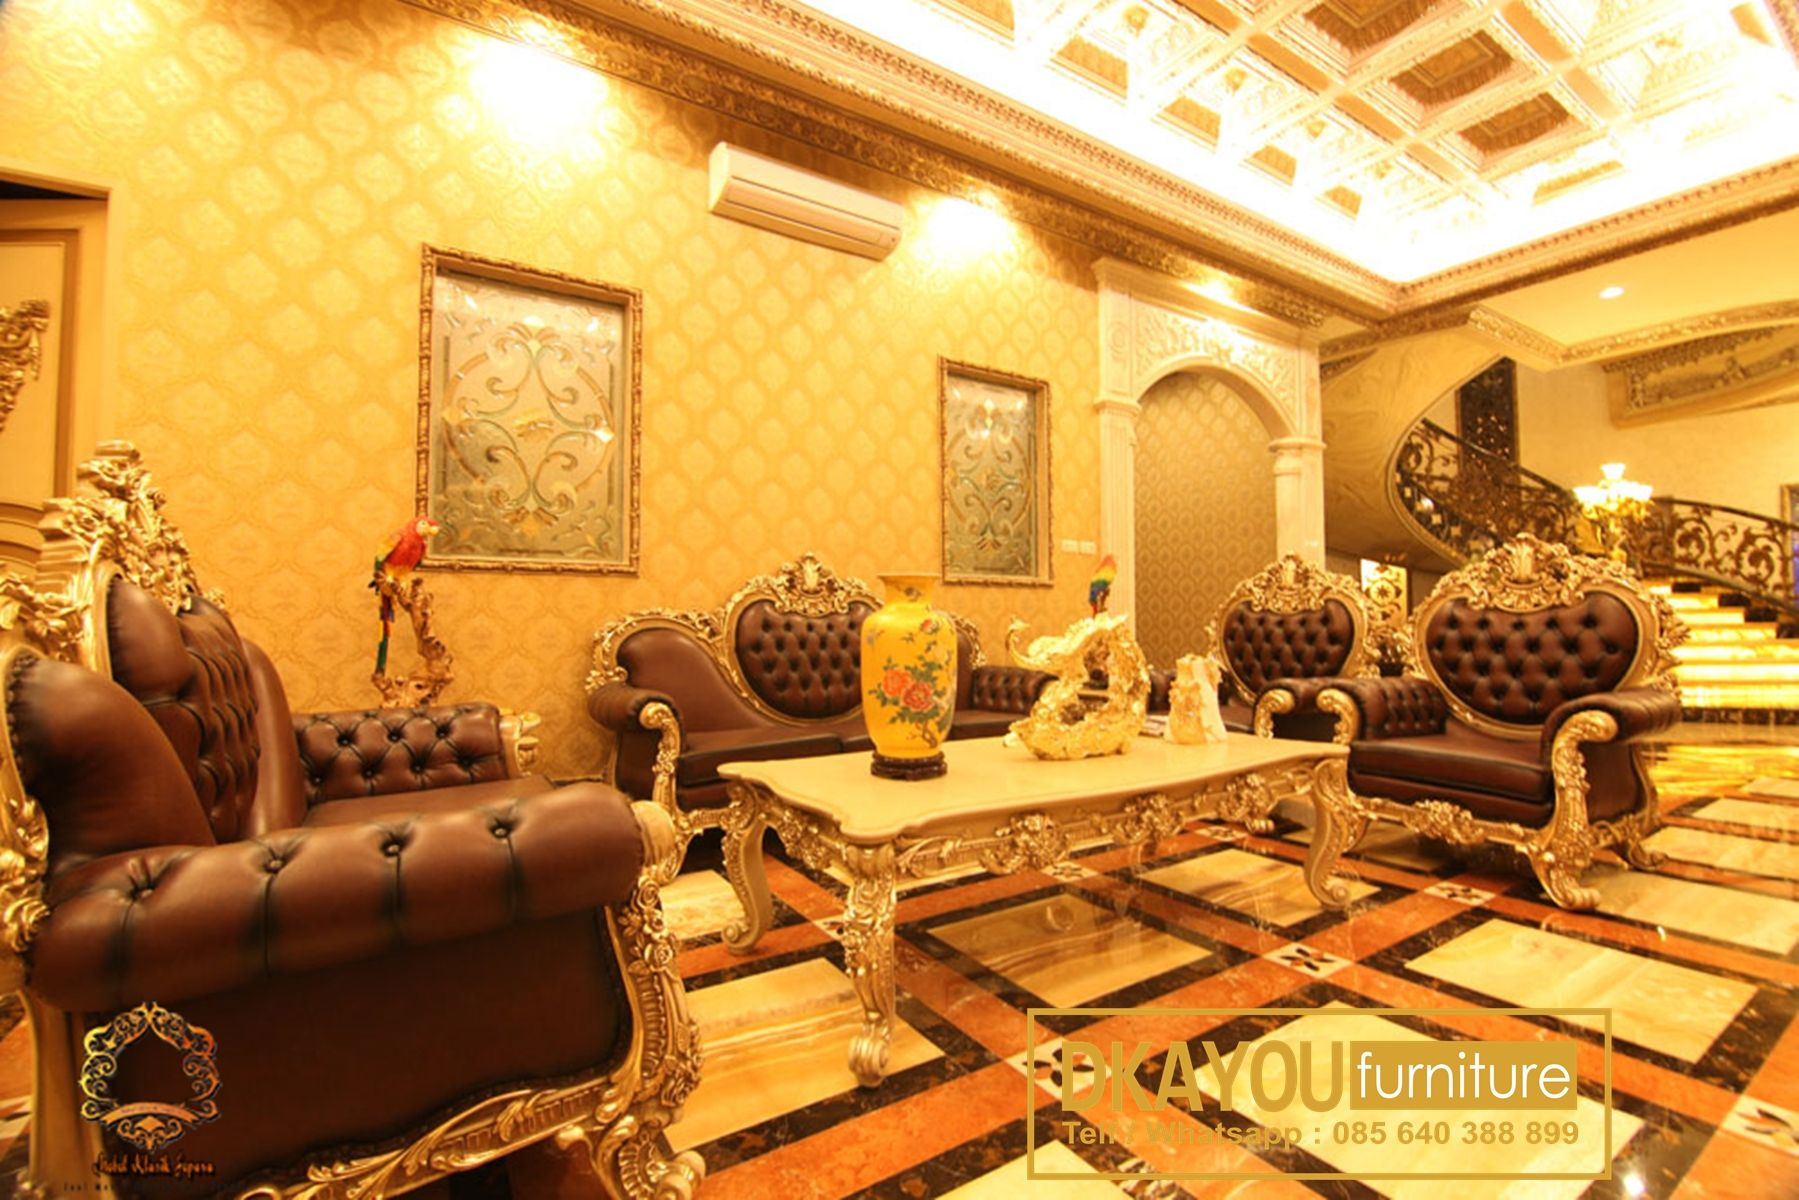kursi: (7, 451, 705, 1200), (1306, 536, 1675, 903), (1194, 546, 1364, 733)
meja: (713, 725, 1363, 970)
sova: (602, 546, 1027, 731)
